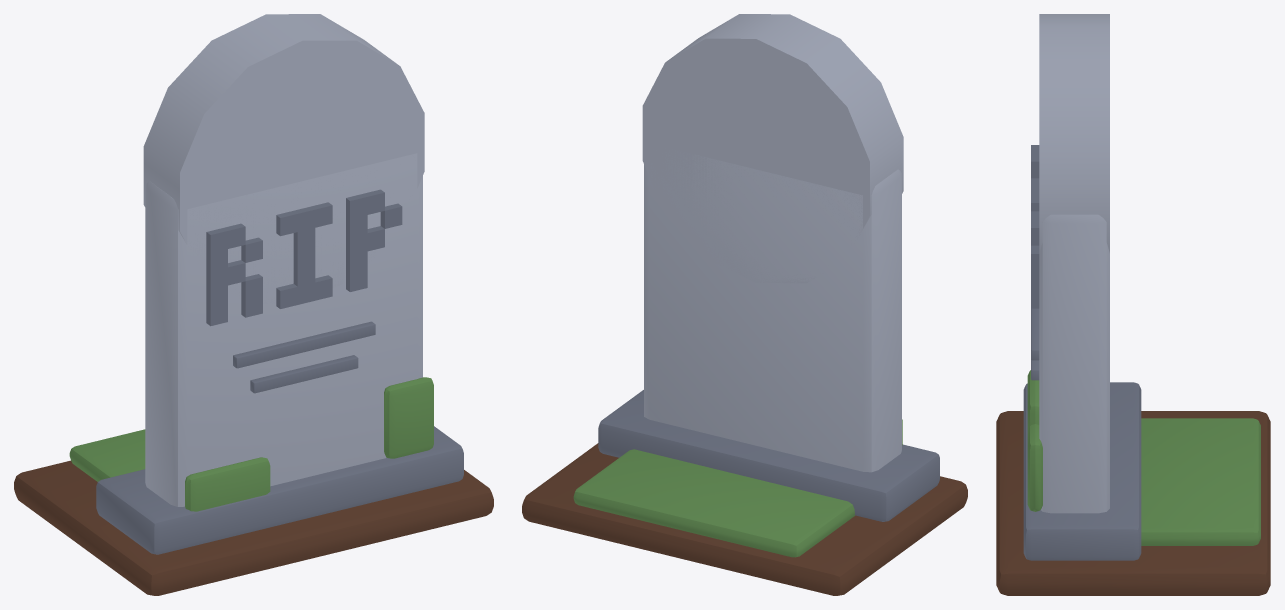
File: vuena-prop-05-gravestone-round.glb
3 renders of one model, left to right at view 1: azimuth 30°, elevation 25°; view 2: azimuth 150°, elevation 25°; view 3: azimuth 270°, elevation 25°, orthographic. The views are drawn at different scales.
Visible parts, largest first — view 1: Prop; view 2: Prop; view 3: Prop.
Boxes of the visible parts, x1,y1,x2,y2 form: Prop: (14,14,493,595); Prop: (522,14,967,595); Prop: (996,14,1270,595).
Bounding box in the file's own units: 1 × 1.38 × 0.7.
Materials: 1 (1 with a texture image).
